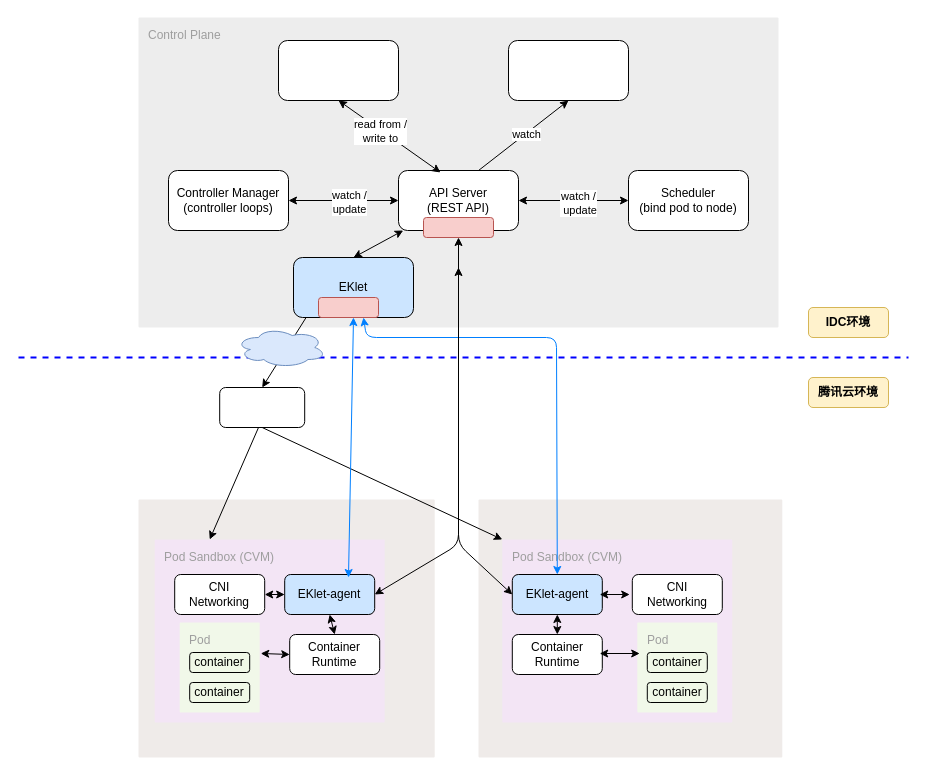
The diagram is 927 pixels wide and 774 high, and some of its shapes have lost their labels. The centre of each missing label's shape, as x and y in pixels:
"CoreDNS (in-cluster DNS)" goes at point (568, 70).
"EKS Server" goes at point (262, 407).
"Etcd (key-value DB)" goes at point (338, 70).
"NodePort" goes at point (348, 307).
"公网地址" goes at point (458, 227).
"腾讯云API" goes at point (280, 347).
